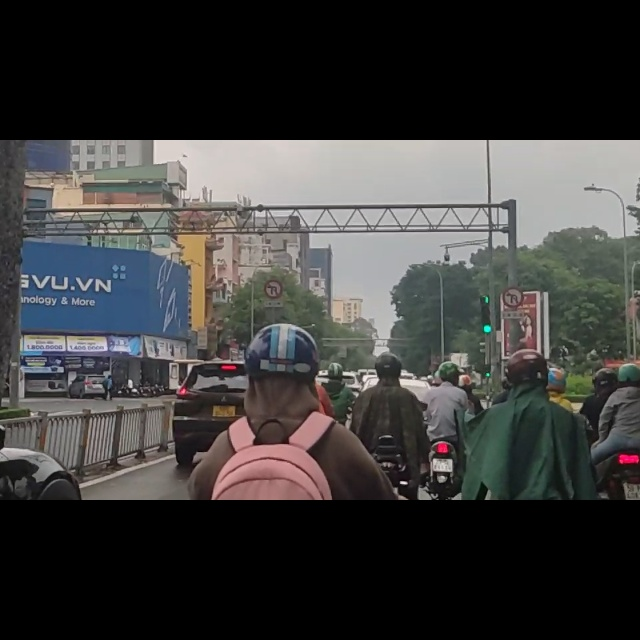bien_cam: (504, 258, 523, 297), (263, 248, 283, 283)
